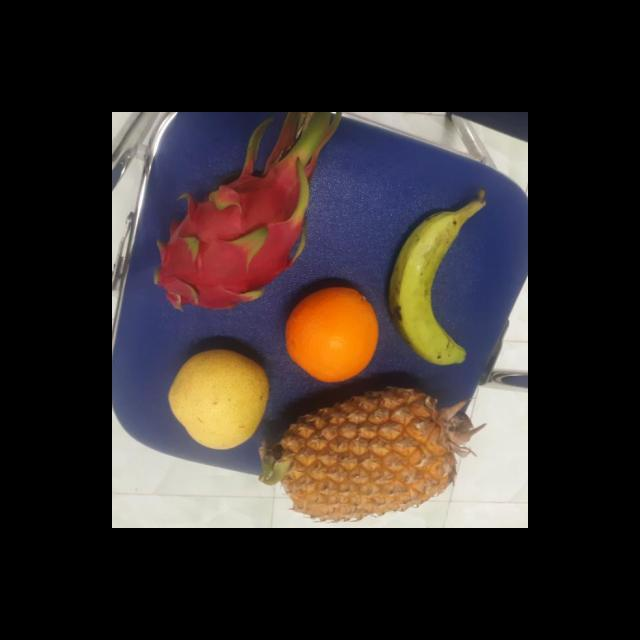banana: (383, 206, 475, 365)
guava: (163, 348, 270, 448)
pear: (282, 286, 381, 382)
pineapple: (267, 382, 452, 519)
pitaya: (150, 164, 314, 310)
